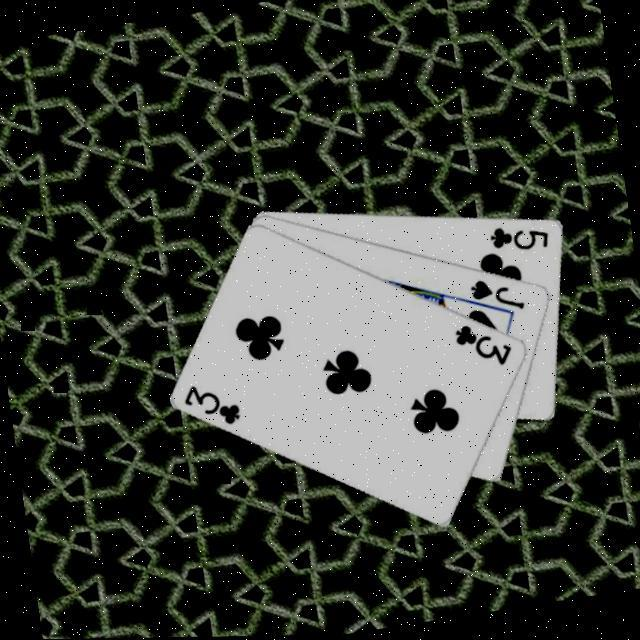3C: (449, 314, 516, 375), (177, 374, 243, 433)
5C: (484, 216, 551, 258)
JS: (464, 269, 527, 320)
